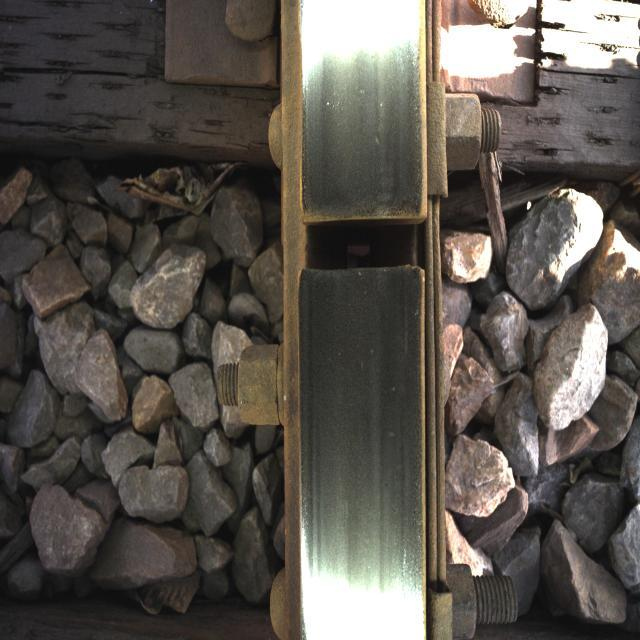spalling: (277, 164, 453, 311)
